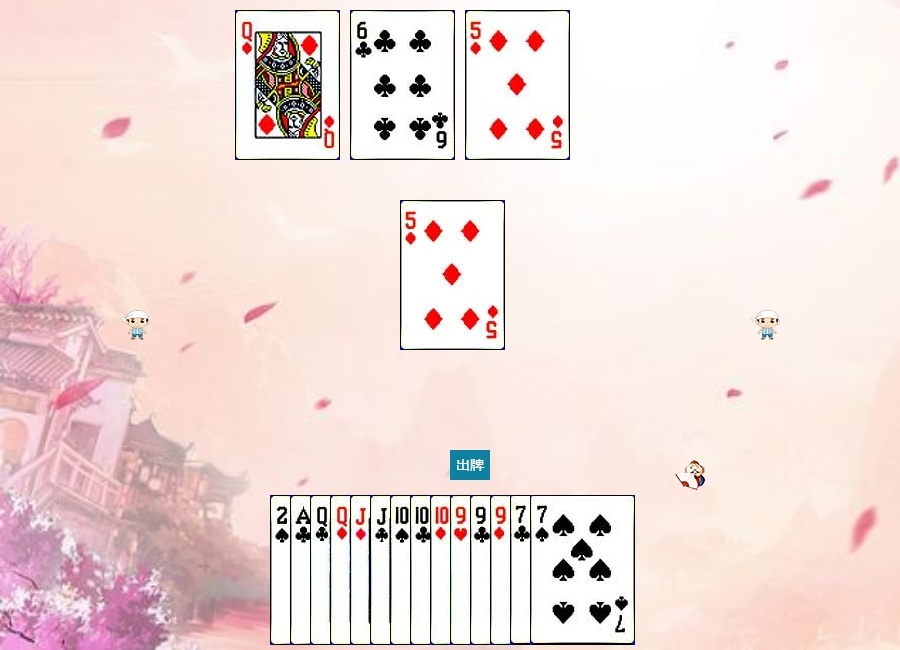10~1: (430, 495, 535, 645)
10~2: (410, 495, 515, 645)
10~4: (390, 495, 495, 645)
11~1: (350, 495, 455, 645)
11~2: (370, 495, 475, 645)
12~1: (235, 10, 340, 160), (330, 495, 435, 645)
12~2: (310, 495, 415, 645)
14~2: (290, 495, 395, 645)
15~4: (270, 495, 375, 645)
5~1: (465, 10, 570, 160), (400, 200, 505, 350)
6~2: (350, 10, 455, 160)
7~2: (510, 495, 615, 645)
7~4: (530, 495, 635, 645)
9~1: (490, 495, 595, 645)
9~2: (470, 495, 575, 645)
9~3: (450, 495, 555, 645)
